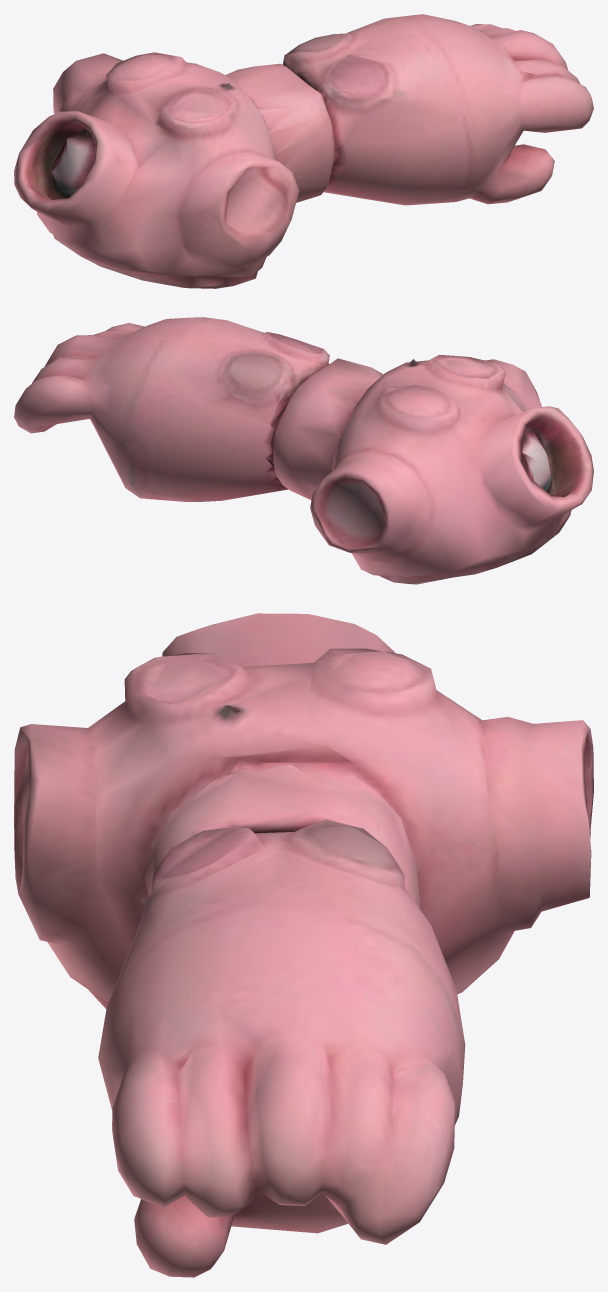
File: arm2_chirimecha.glb
3 renders of one model, top to bottom at view 1: azimuth 30°, elevation 25°; view 2: azimuth 150°, elevation 25°; view 3: azimuth 270°, elevation 25°, orthographic. The views are drawn at different scales.
Parts seen in each view (by area): view 1: arm 2; view 2: arm 2; view 3: arm 2.
Part boxes in pixels (x1=…): arm 2: x1=14, y1=14, x2=593, y2=288; arm 2: x1=14, y1=317, x2=593, y2=584; arm 2: x1=14, y1=613, x2=593, y2=1277.
Bounding box in the file's own units: 2.04 × 0.6446 × 1.04.
Materials: 1 (1 with a texture image).
